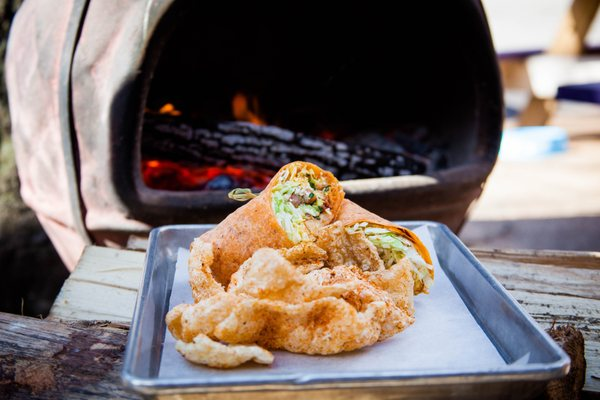soup: (171, 159, 436, 368)
